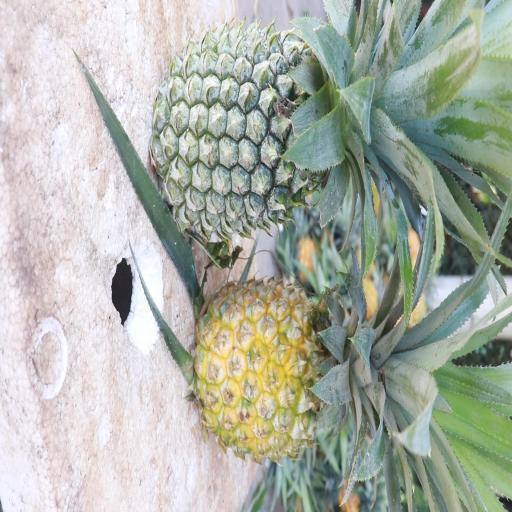Pineapple - v8 v1: (193, 267, 471, 474)
